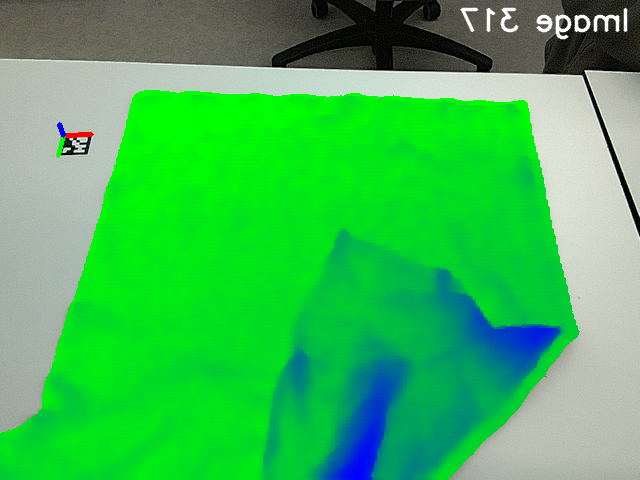V: (313, 217, 378, 300)
